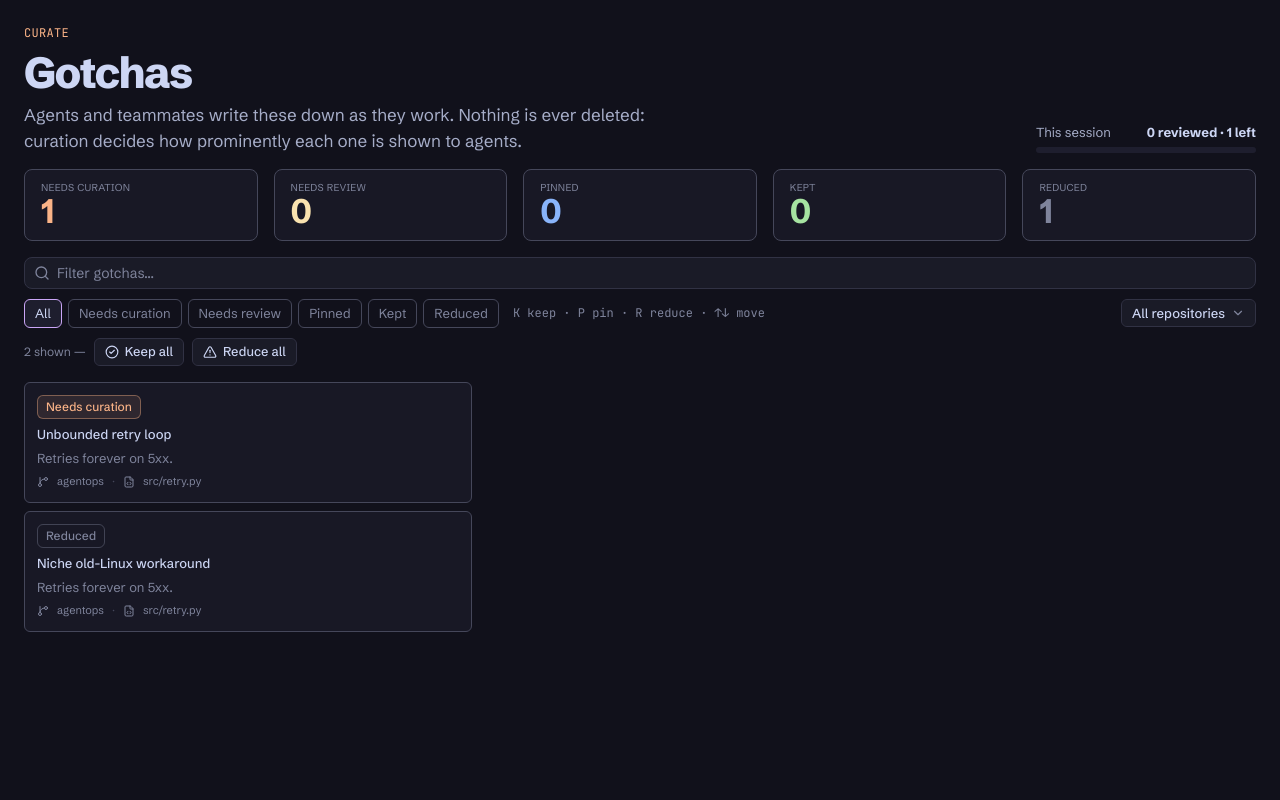
Test: GotchasPage › the Reduced tab filters out gotchas that still need curation
The image size is (1280, 800).
Expected: the text "Unbounded retry loop" is shown, [37,425,171,443]
Step 1. Click the button "Reduced" → [461, 314], box [423,299,499,328]
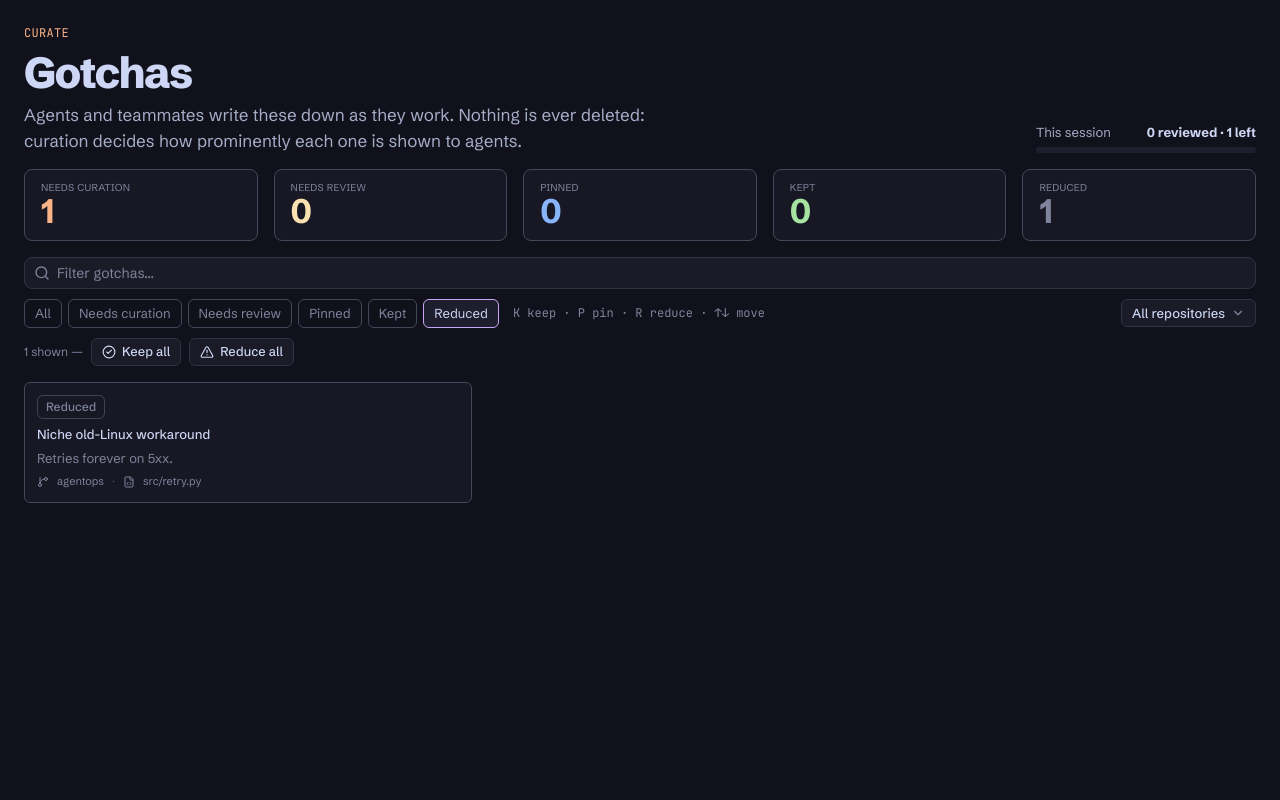
Expected: the text "Niche old-Linux workaround" is shown, [37,425,210,443]
Now the button "Unbounded retry loop" is gone
